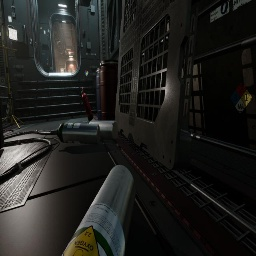0: (61, 165, 136, 256), (50, 122, 100, 144), (87, 121, 118, 140)
FireExtinguisher ]: (81, 86, 93, 121)
SafetySwitchPanel ,: (60, 68, 64, 73)
